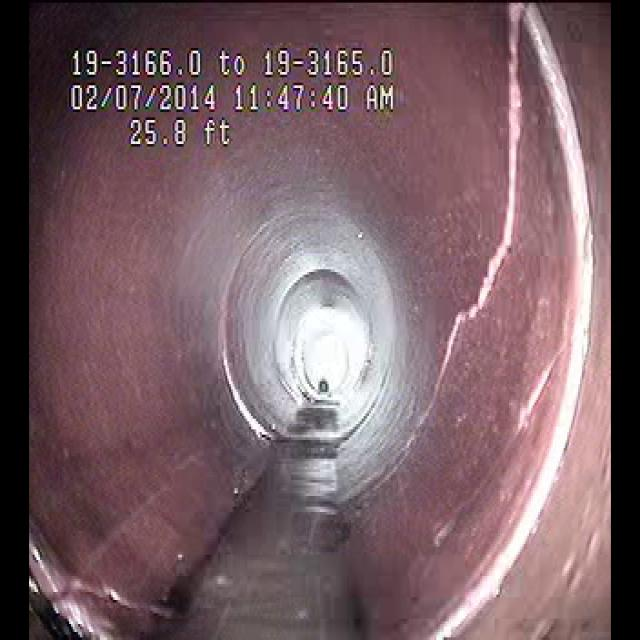Fracture: (435, 25, 552, 459)
